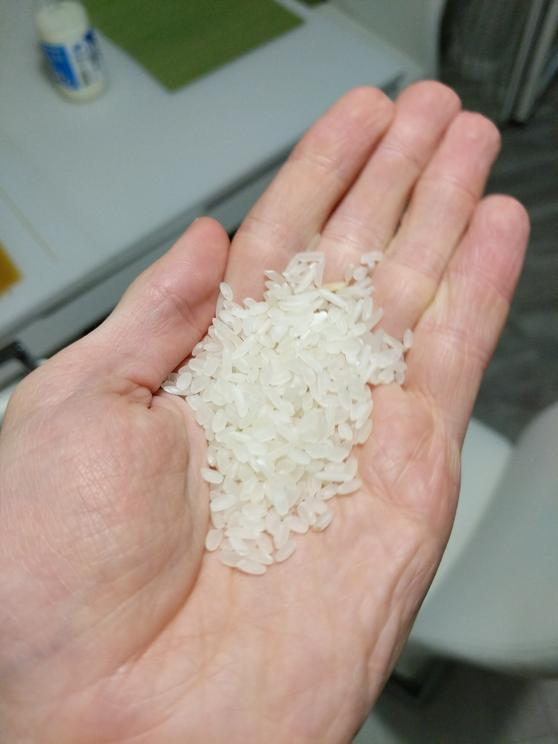rice: (157, 228, 430, 584)
